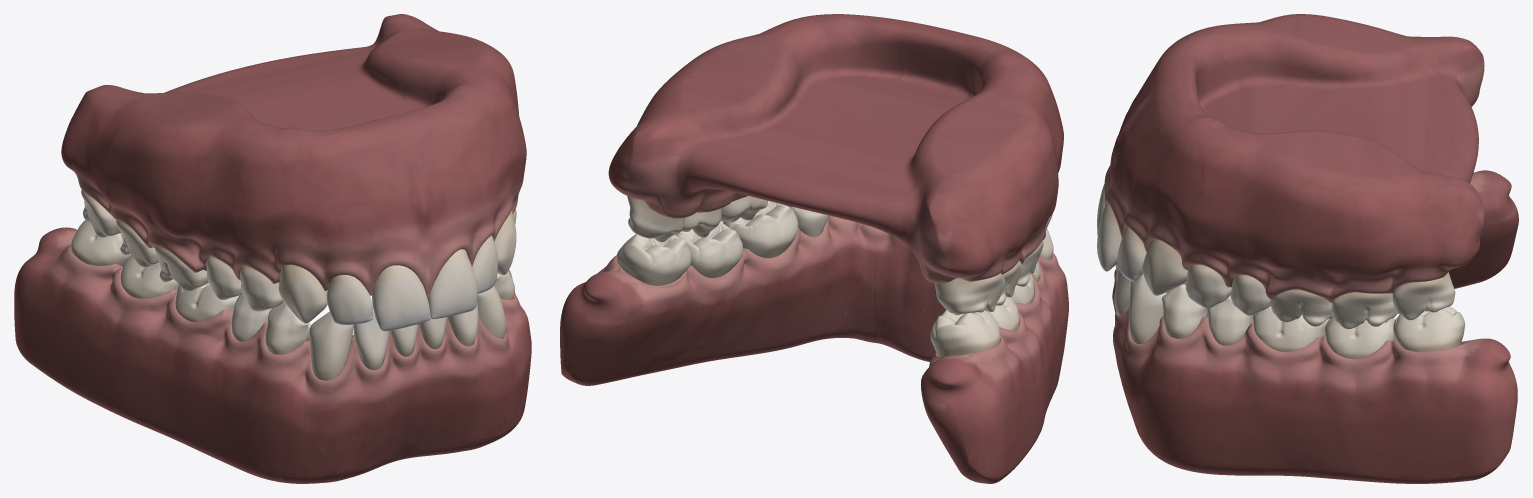
File: forma-atlas-v1.glb
3 renders of one model, left to right at view 1: azimuth 30°, elevation 25°; view 2: azimuth 150°, elevation 25°; view 3: azimuth 270°, elevation 25°, orthographic.
Visible parts, largest first — view 1: gum_upper, gum_lower, tooth_11, tooth_21, tooth_43, tooth_13, tooth_12, tooth_48, tooth_44, tooth_46, tooth_47, tooth_42 (+12 smaller); view 2: gum_upper, gum_lower, tooth_38, tooth_48, tooth_36, tooth_37, tooth_18, tooth_28, tooth_26, tooth_27, tooth_35, tooth_47; view 3: gum_upper, gum_lower, tooth_38, tooth_36, tooth_37, tooth_28, tooth_27, tooth_23, tooth_33, tooth_26, tooth_34, tooth_24 (+5 smaller).
Part boxes in pixels (left/top/right/bottom): gum_upper: left=61, top=14, right=526, bottom=298; gum_lower: left=14, top=227, right=531, bottom=483; tooth_11: left=372, top=265, right=430, bottom=331; tooth_21: left=428, top=249, right=477, bottom=319; tooth_43: left=309, top=311, right=353, bottom=380; tooth_13: left=278, top=265, right=327, bottom=323; tooth_12: left=327, top=275, right=373, bottom=324; tooth_48: left=71, top=220, right=130, bottom=266; tooth_44: left=265, top=302, right=310, bottom=354; tooth_46: left=175, top=283, right=239, bottom=321; tooth_47: left=120, top=255, right=178, bottom=298; tooth_42: left=353, top=310, right=389, bottom=370; gum_upper: left=608, top=14, right=1063, bottom=283; gum_lower: left=560, top=215, right=1068, bottom=483; tooth_38: left=616, top=234, right=691, bottom=285; tooth_48: left=930, top=309, right=1000, bottom=356; tooth_36: left=723, top=201, right=798, bottom=258; tooth_37: left=675, top=222, right=742, bottom=278; tooth_18: left=934, top=273, right=1005, bottom=315; tooth_28: left=627, top=196, right=685, bottom=242; tooth_26: left=720, top=196, right=767, bottom=222; tooth_27: left=681, top=208, right=721, bottom=237; tooth_35: left=789, top=206, right=828, bottom=236; tooth_47: left=990, top=297, right=1019, bottom=330; gum_upper: left=1104, top=14, right=1484, bottom=302; gum_lower: left=1112, top=170, right=1518, bottom=483; tooth_38: left=1393, top=306, right=1465, bottom=351; tooth_36: left=1253, top=306, right=1329, bottom=351; tooth_37: left=1325, top=317, right=1395, bottom=358; tooth_28: left=1392, top=272, right=1455, bottom=320; tooth_27: left=1331, top=292, right=1397, bottom=329; tooth_23: left=1142, top=239, right=1187, bottom=295; tooth_33: left=1128, top=273, right=1166, bottom=343; tooth_26: left=1270, top=289, right=1333, bottom=326; tooth_34: left=1162, top=284, right=1207, bottom=338; tooth_24: left=1185, top=264, right=1231, bottom=308.
Size of the model in its own units: 76.74 by 56.13 by 63.59.
